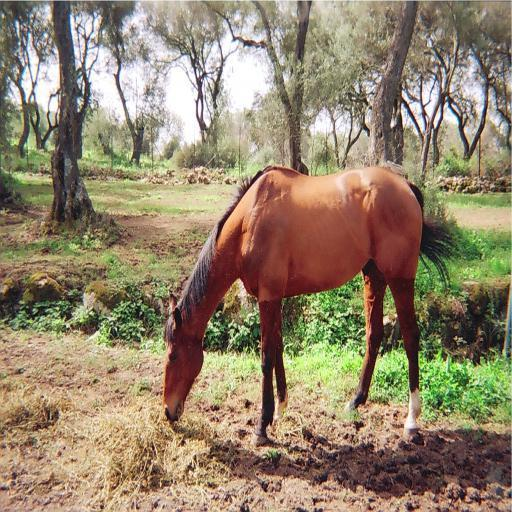horse: (160, 162, 460, 446)
